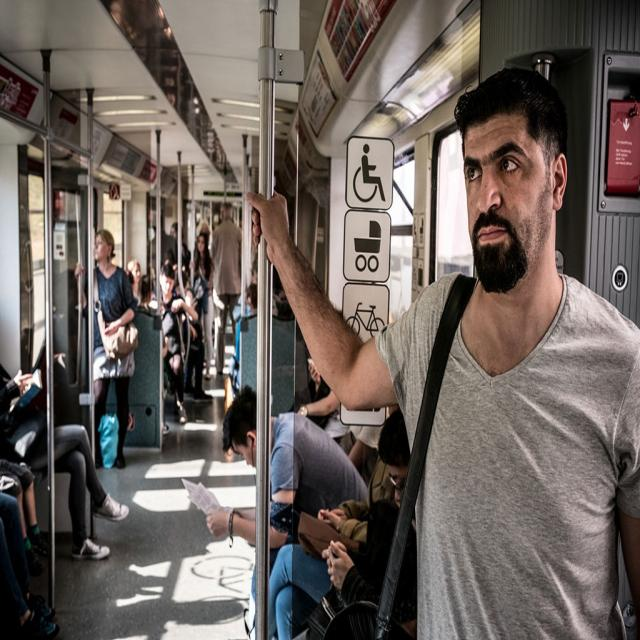body: (242, 59, 640, 639), (185, 384, 369, 634), (244, 405, 414, 640), (77, 487, 258, 638), (0, 362, 131, 563), (73, 225, 138, 473), (286, 350, 393, 466), (0, 442, 58, 640), (208, 198, 244, 381), (159, 262, 199, 426), (134, 274, 172, 436), (188, 230, 216, 382), (149, 213, 179, 276), (170, 221, 191, 283), (122, 254, 144, 309), (192, 211, 207, 233)
